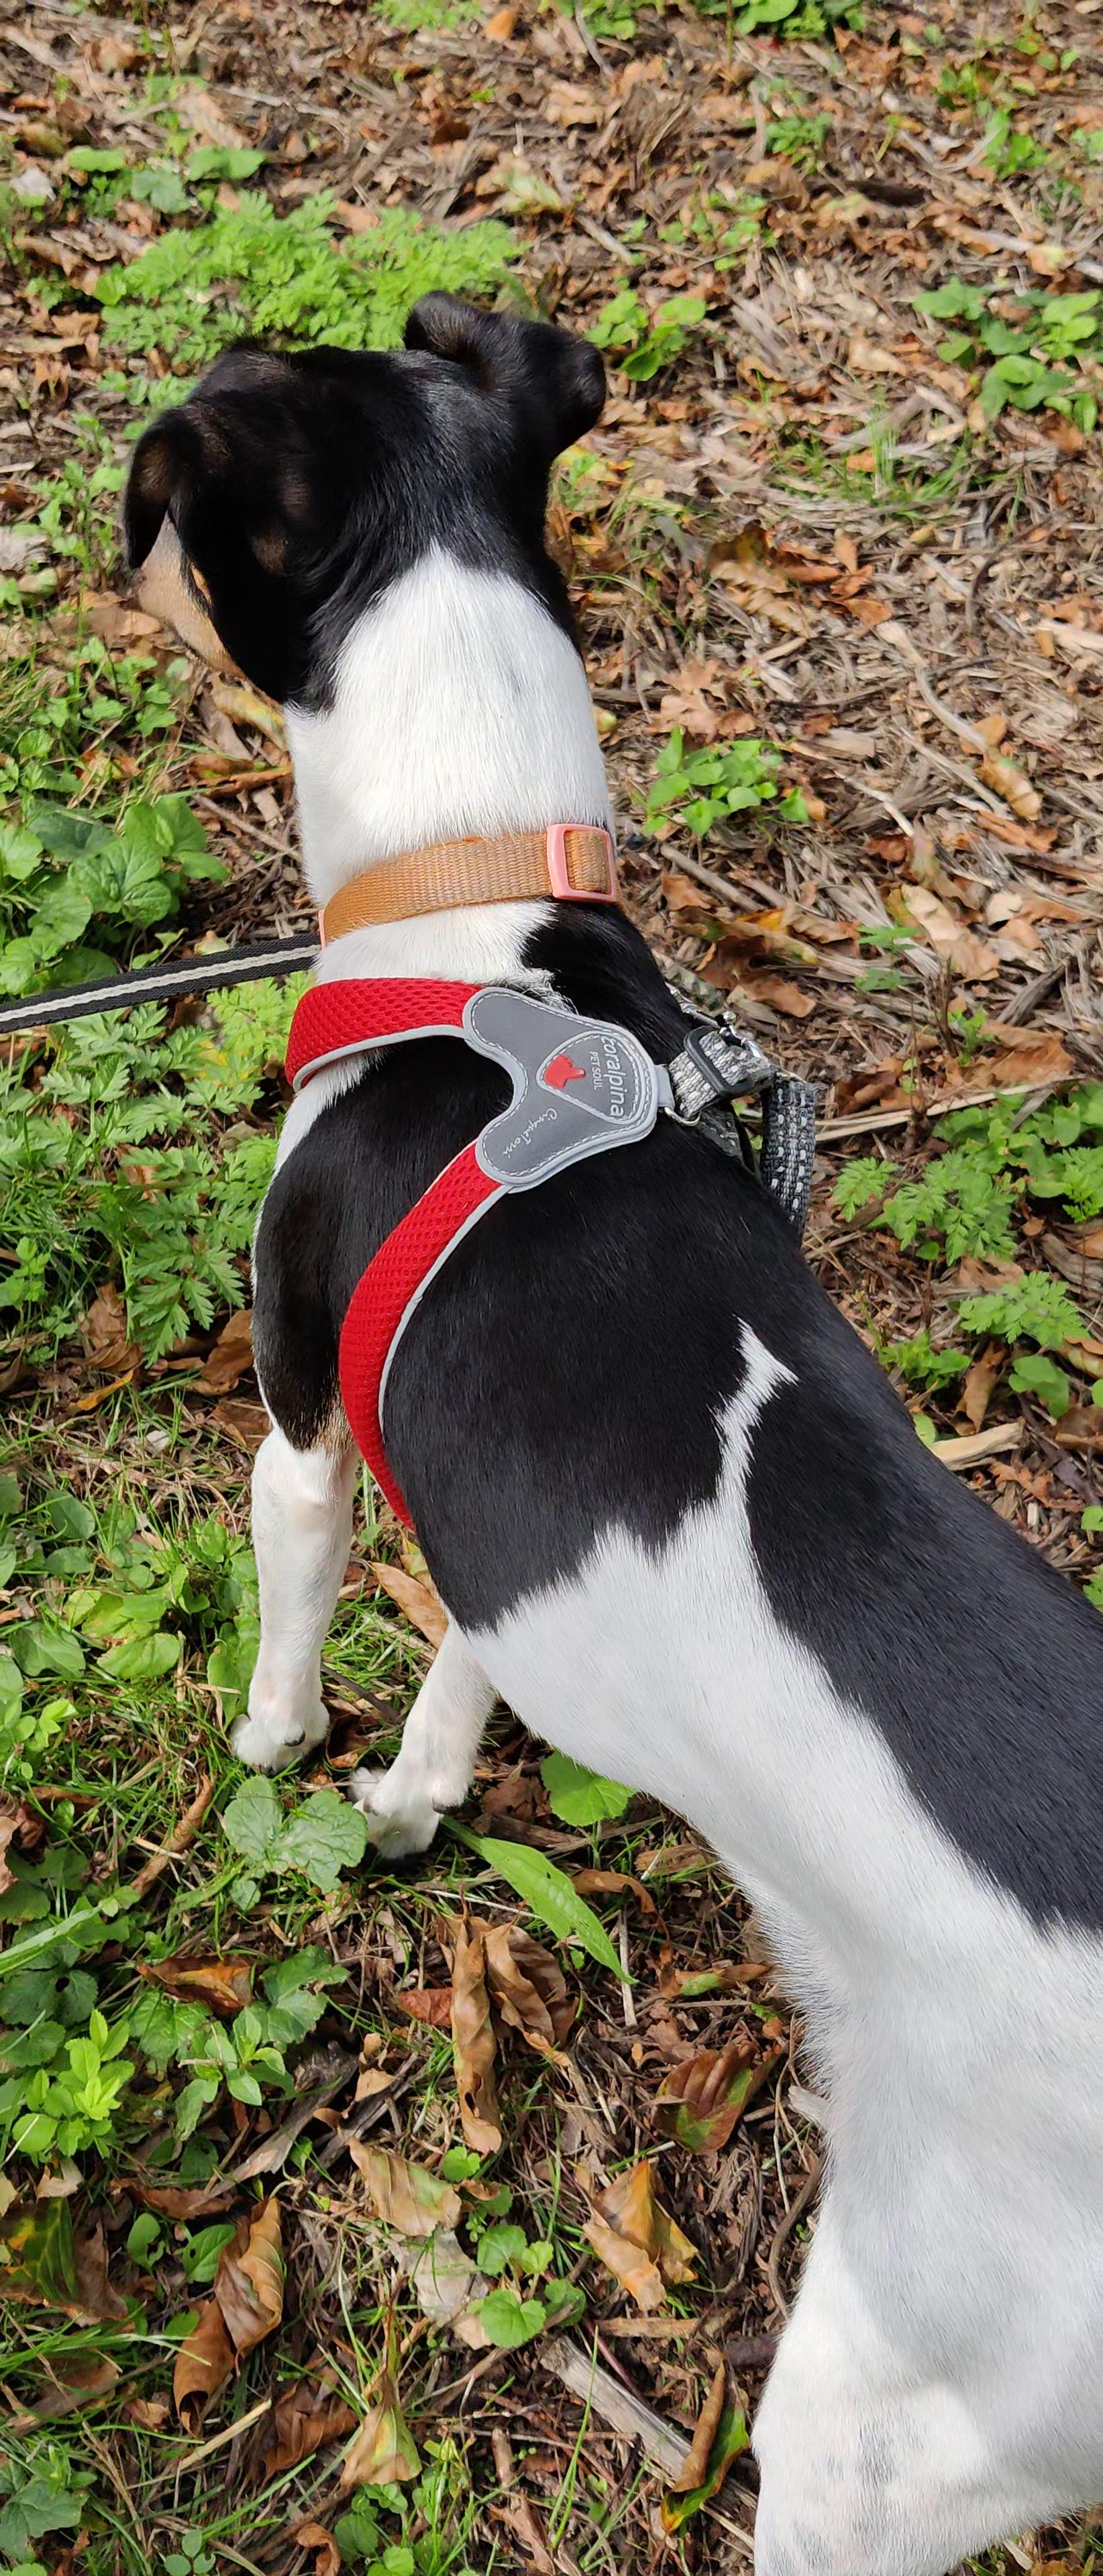Dog: (79, 279, 1103, 2576)
